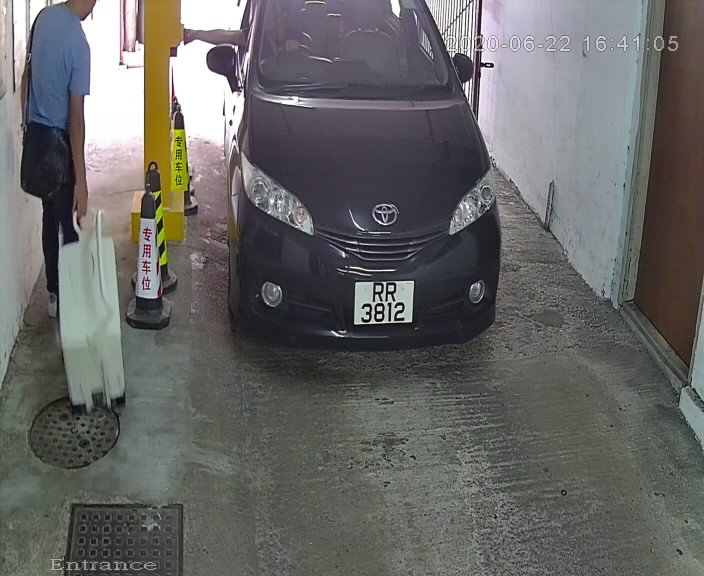privatecar: (203, 1, 516, 361)
